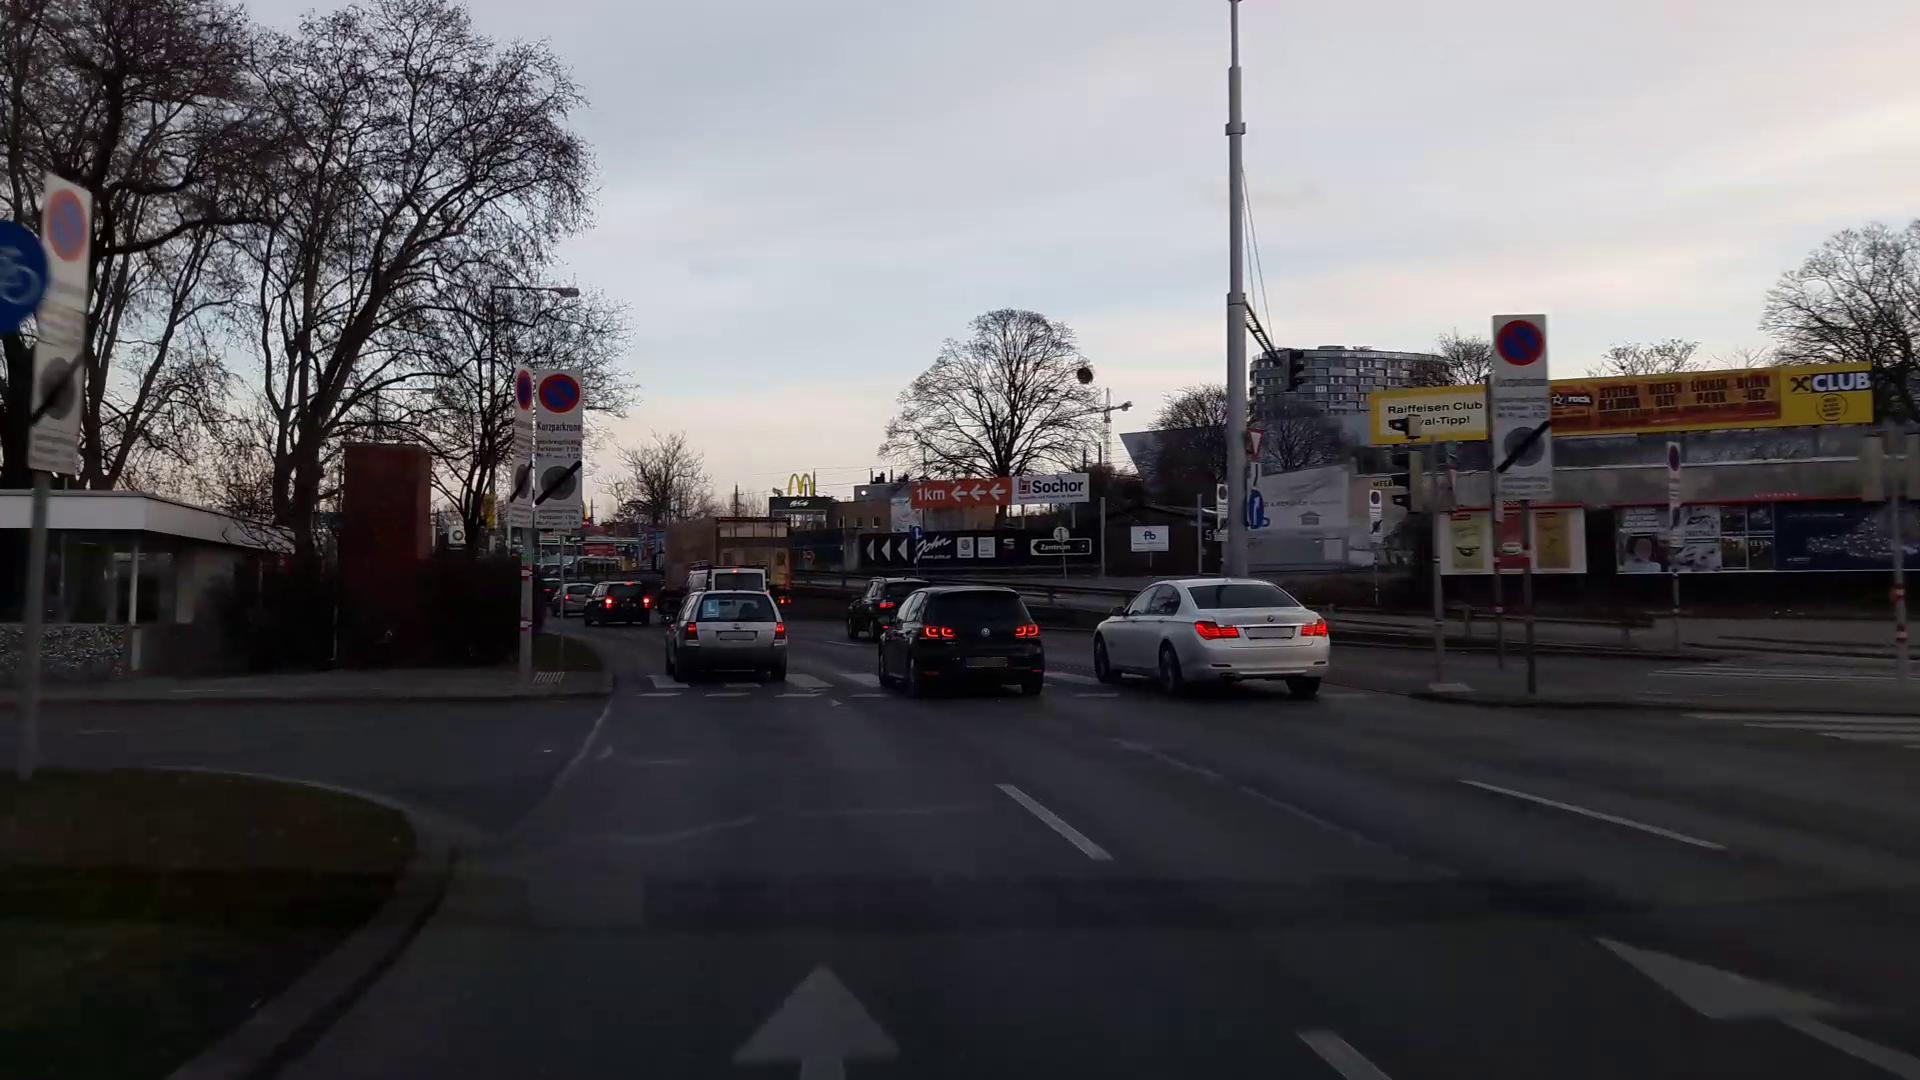vinyl banner: (1335, 351, 1908, 459), (1232, 458, 1364, 545), (901, 469, 1093, 513)
